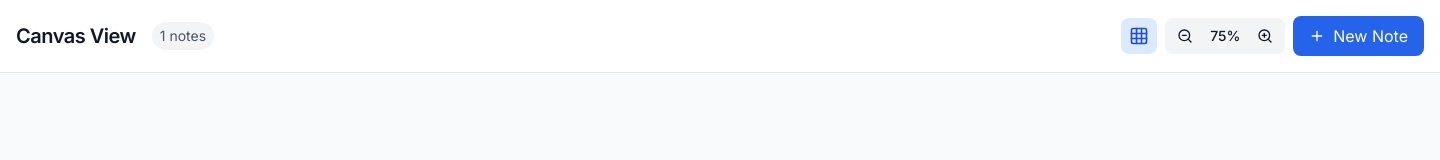
NotesCanvas › toggles grid view
Click the button titled "Hide grid".
click(1139, 36)  # box x1=1121 y1=18 x2=1157 y2=54
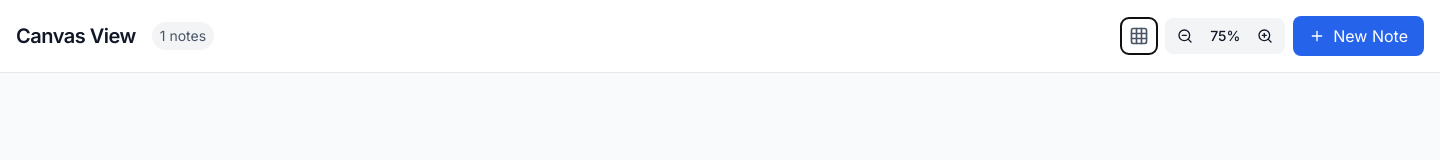
Result: the button titled "Show grid" is shown at x1=1121 y1=18 x2=1157 y2=54
